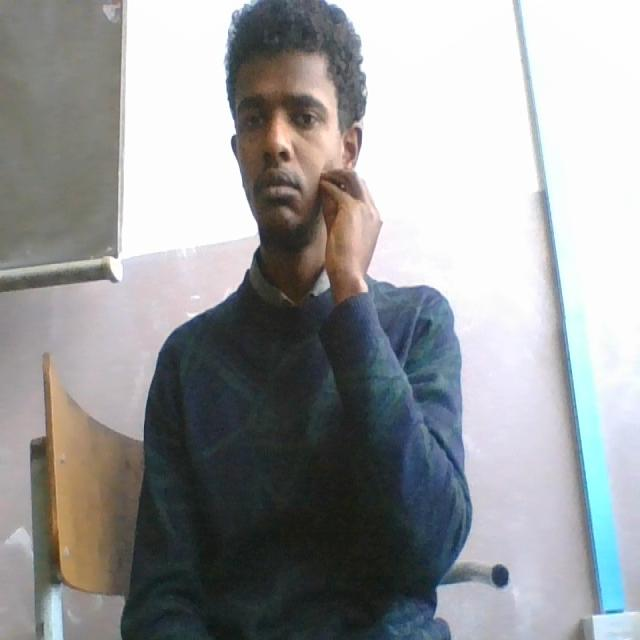bet: (230, 162, 387, 278)
